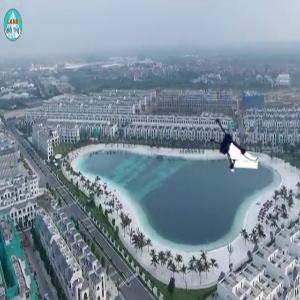drone: (198, 111, 261, 174)
